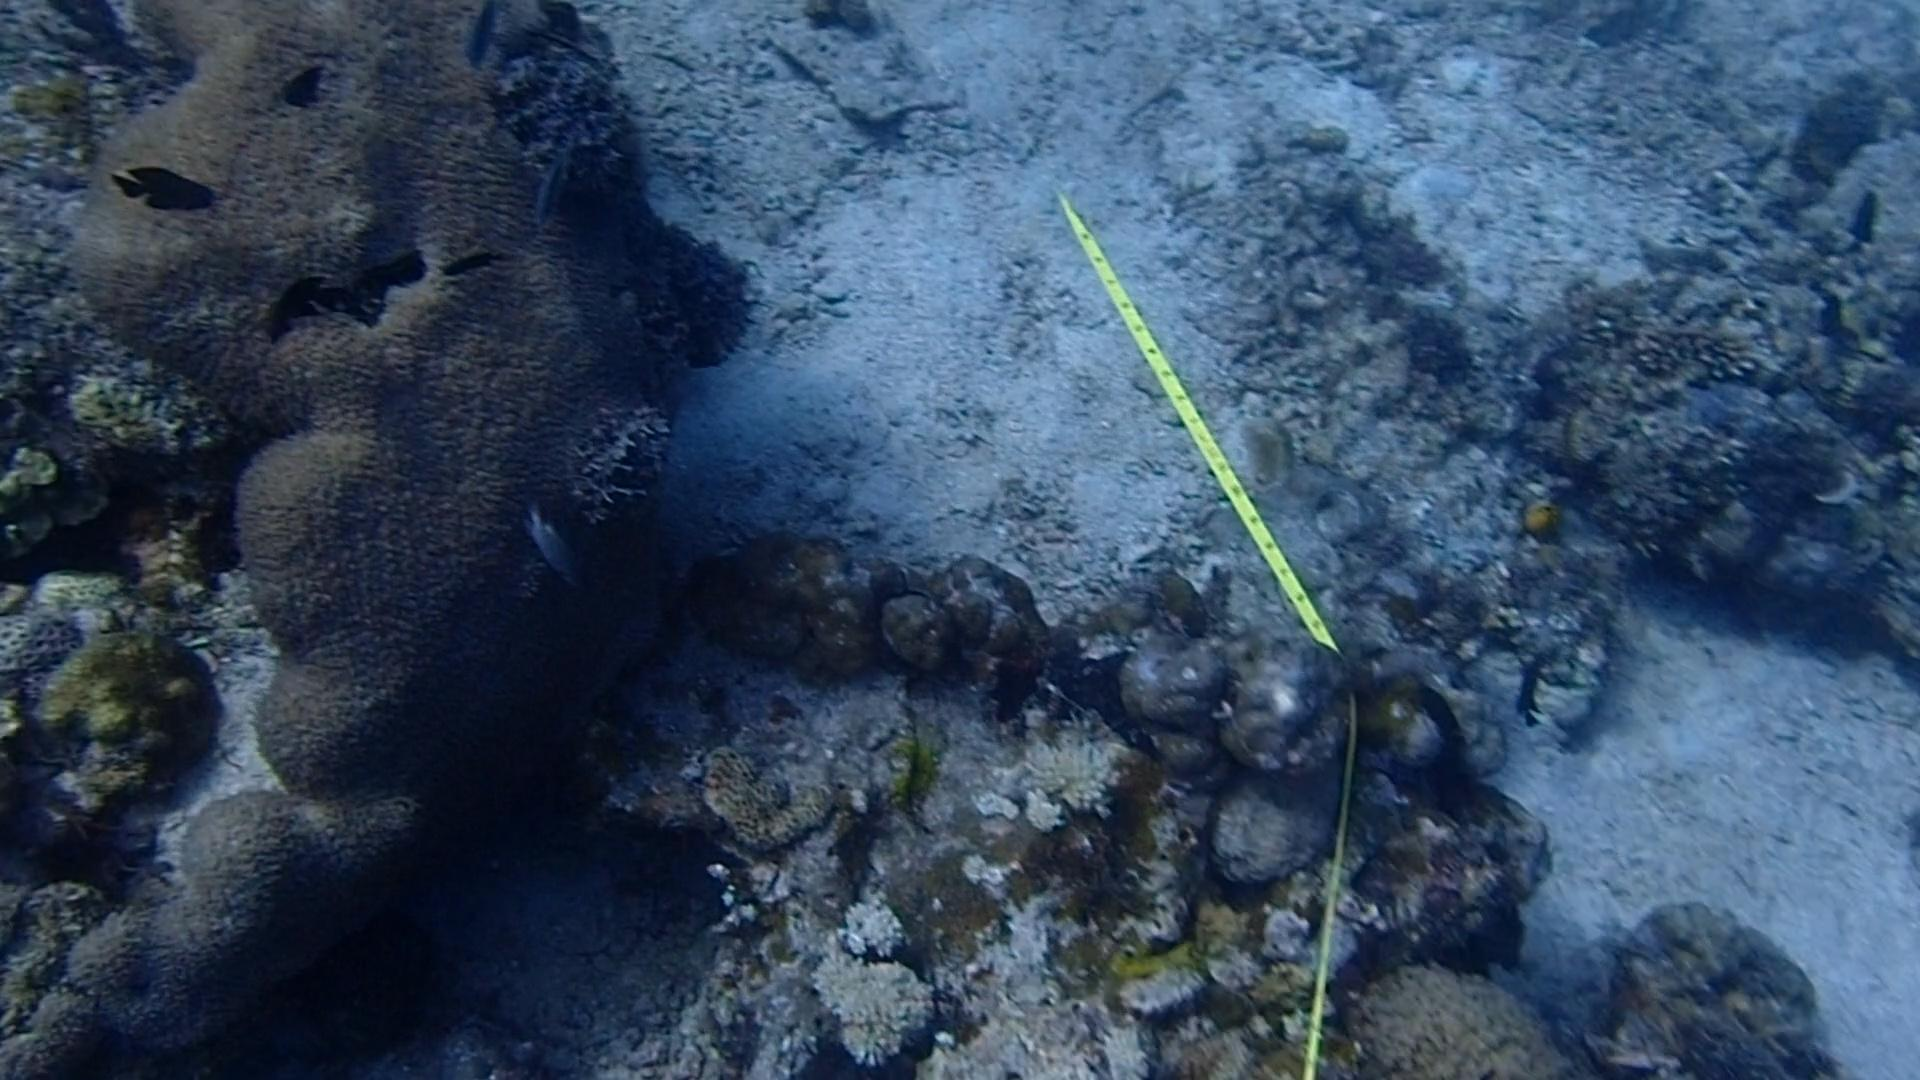Dark Fish: (244, 269, 338, 360), (431, 224, 509, 303), (1494, 649, 1561, 735), (113, 166, 214, 219), (1410, 673, 1476, 749), (1832, 173, 1887, 255), (261, 62, 327, 116), (1807, 280, 1857, 343)
Light Fish: (522, 123, 589, 239), (502, 504, 589, 588)
